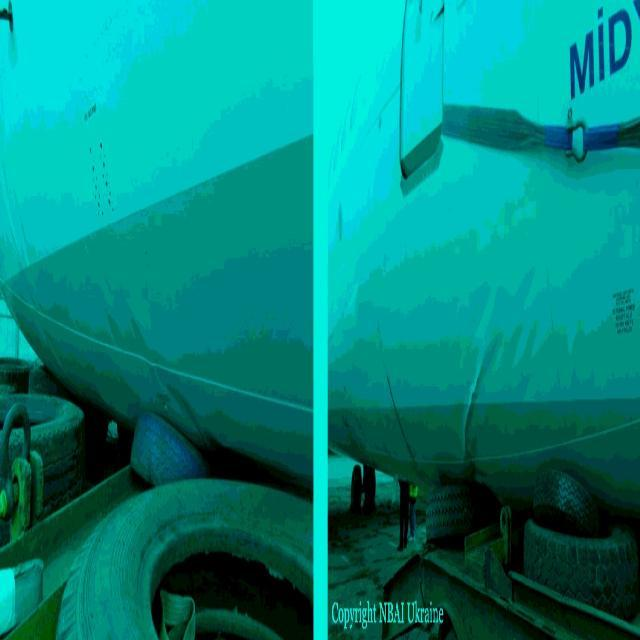dent: (97, 310, 205, 448), (448, 306, 505, 480)
